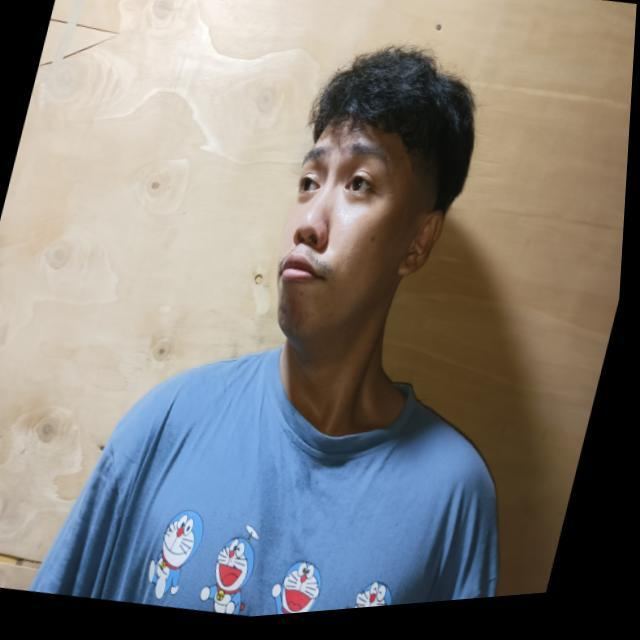Nonhelmet: (268, 42, 480, 349)
